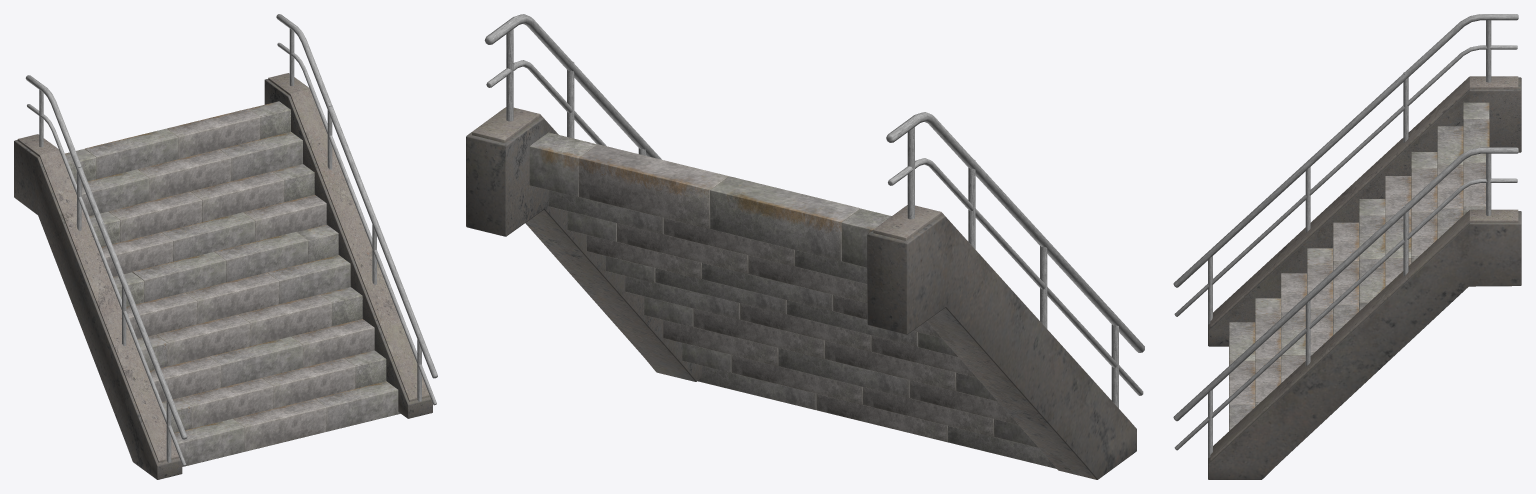
File: Stairs.fbx
The picture shows the model from 3 angles, left to right: view 1: azimuth 30°, elevation 25°; view 2: azimuth 150°, elevation 25°; view 3: azimuth 270°, elevation 25°; orthographic projection. The views are drawn at different scales.
Parts seen in each view (by area): view 1: Stairs; view 2: Stairs; view 3: Stairs.
Boxes of the visible parts, left/top/right/bottom form: Stairs: left=14, top=14, right=437, bottom=479; Stairs: left=466, top=14, right=1144, bottom=479; Stairs: left=1173, top=14, right=1521, bottom=479.
Bounding box in the file's own units: 3.99 × 4.16 × 3.99.
